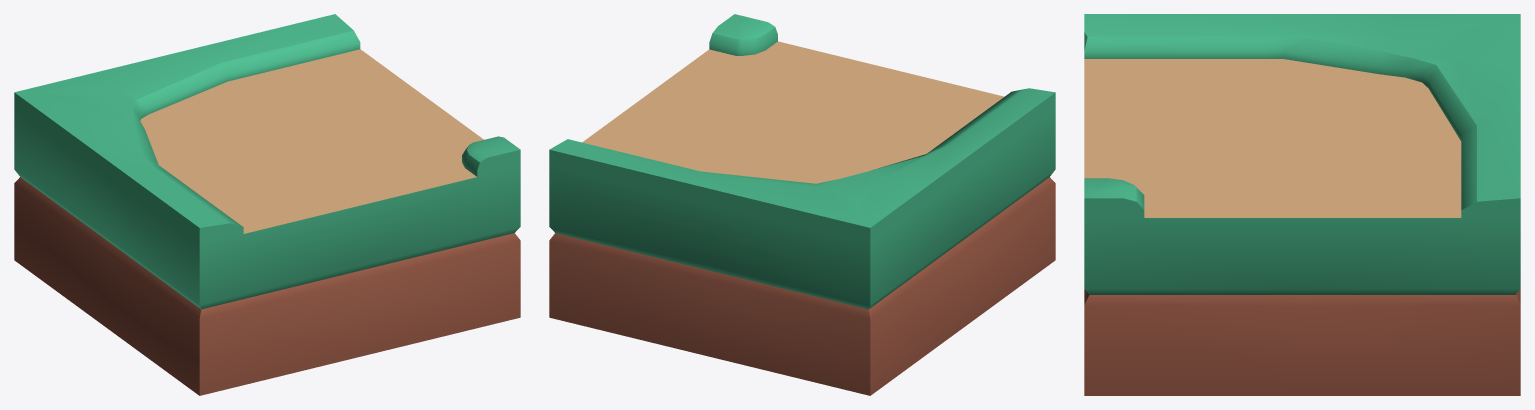
The model's file is Road_B.fbx.
The picture shows the model from 3 angles, left to right: view 1: azimuth 30°, elevation 25°; view 2: azimuth 150°, elevation 25°; view 3: azimuth 270°, elevation 25°; orthographic projection. The views are drawn at different scales.
Visible parts, largest first — view 1: square_forest_roadC_detail; view 2: square_forest_roadC_detail; view 3: square_forest_roadC_detail.
Boxes of the visible parts, x1,y1,x2,y2 form: square_forest_roadC_detail: (14, 14, 520, 395); square_forest_roadC_detail: (549, 14, 1055, 395); square_forest_roadC_detail: (1084, 14, 1520, 395).
Size of the model in its own units: 2 by 1.01 by 2.
